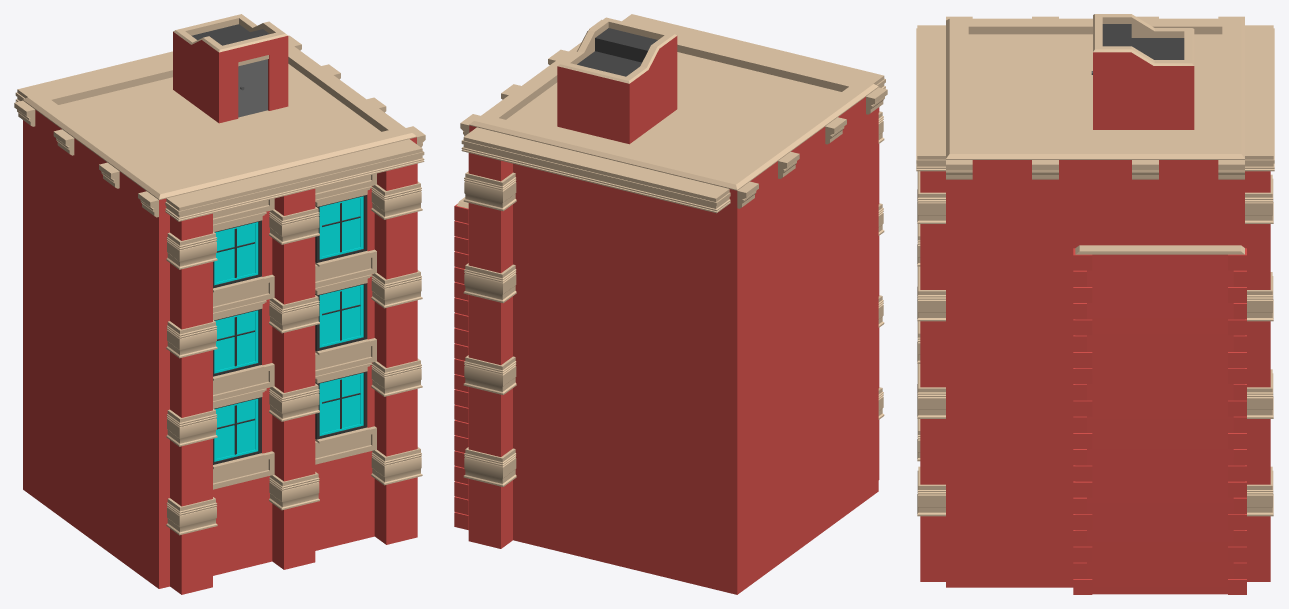
Rendered from building_07.fbx.
3 renders of one model, left to right at view 1: azimuth 30°, elevation 25°; view 2: azimuth 150°, elevation 25°; view 3: azimuth 270°, elevation 25°, orthographic. The views are drawn at different scales.
Visible parts, largest first — view 1: Plane.027; view 2: Plane.027; view 3: Plane.027.
Boxes of the visible parts, box(x1,y1,x2,y2) form: Plane.027: box(14, 14, 425, 594); Plane.027: box(454, 14, 887, 594); Plane.027: box(916, 14, 1274, 594).
Bounding box in the file's own units: 1188 × 1858 × 1197.
